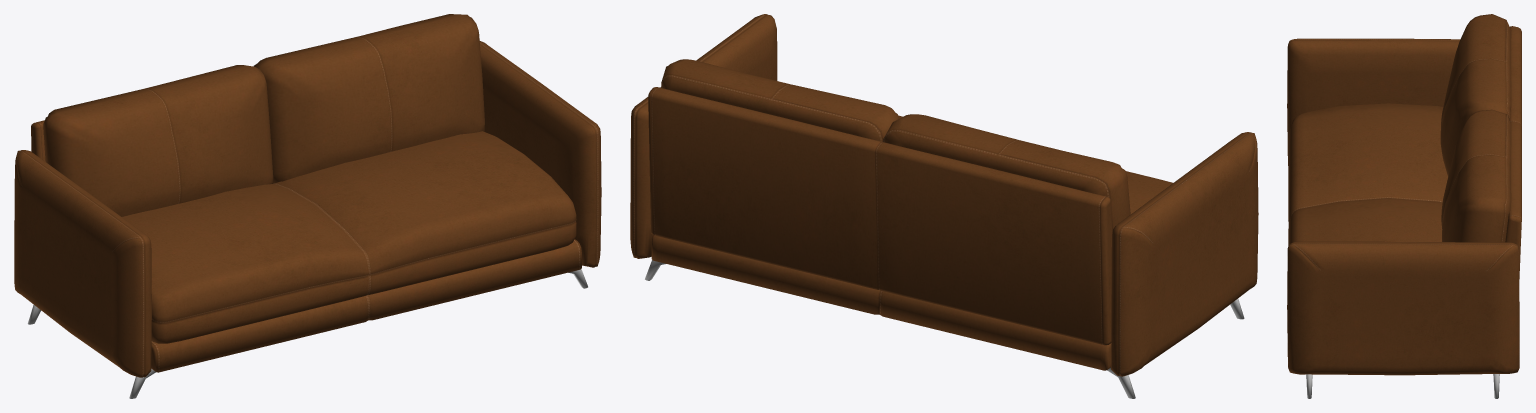
File: leather_couch.glb
3 renders of one model, left to right at view 1: azimuth 30°, elevation 25°; view 2: azimuth 150°, elevation 25°; view 3: azimuth 270°, elevation 25°, orthographic. The views are drawn at different scales.
Visible parts, largest first — view 1: Cube; view 2: Cube; view 3: Cube.
Part boxes in pixels (left/top/right/bottom): Cube: left=14, top=14, right=601, bottom=398; Cube: left=630, top=14, right=1258, bottom=398; Cube: left=1287, top=14, right=1521, bottom=398.
Bounding box in the file's own units: 2.02 × 0.8252 × 0.9244.
1 material, 1 textured.
